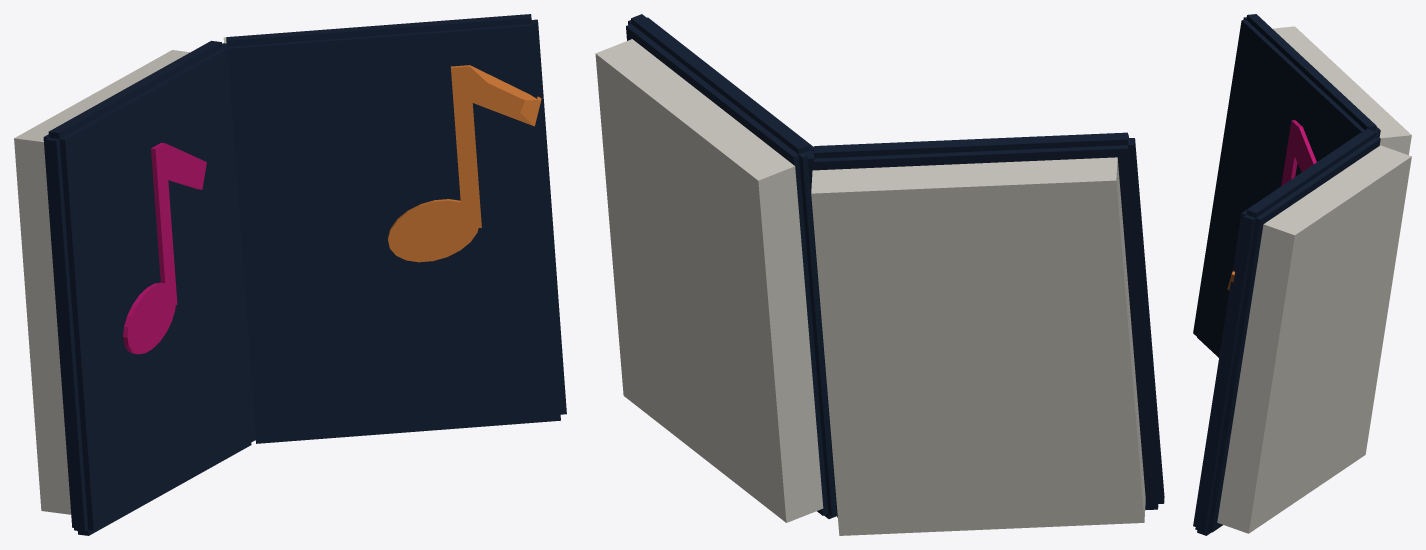
The model's file is book.glb.
The picture shows the model from 3 angles, left to right: view 1: azimuth 30°, elevation 25°; view 2: azimuth 150°, elevation 25°; view 3: azimuth 270°, elevation 25°; orthographic projection. The views are drawn at different scales.
Visible parts, largest first — view 1: book; view 2: book; view 3: book.
Part boxes in pixels (bbox=[...]): book: bbox=[14, 14, 566, 535]; book: bbox=[595, 14, 1164, 535]; book: bbox=[1193, 14, 1411, 535].
Bounding box in the file's own units: 0.2752 × 0.2082 × 0.1218.
